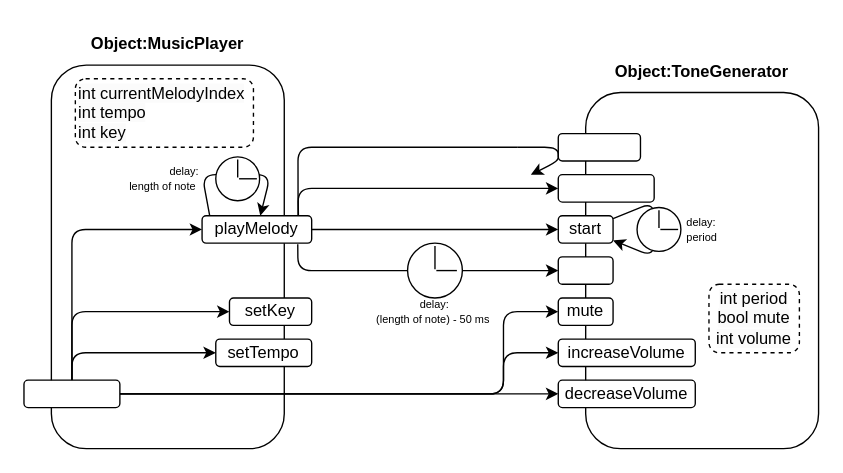
The diagram is 843 pixels wide and 473 high, and some of its shapes have lost their labels. The shapes that lost their labels are listed below. From the top down, each one's centre as x and y in pixels, then its label:
At [598,146]: "setPeriod".
At [605,187]: "enableStart".
At [585,270]: "stop".
At [71,393]: "parseInput".
